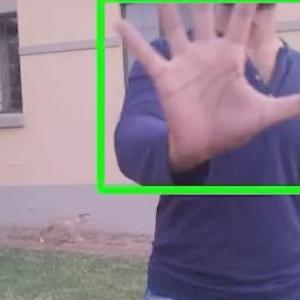follow_hand: (106, 0, 299, 165)
